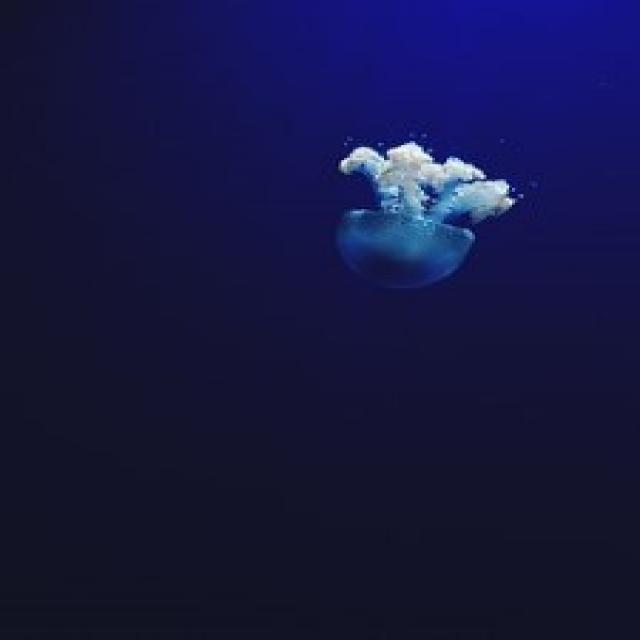Jellyfish: (332, 132, 522, 307)
